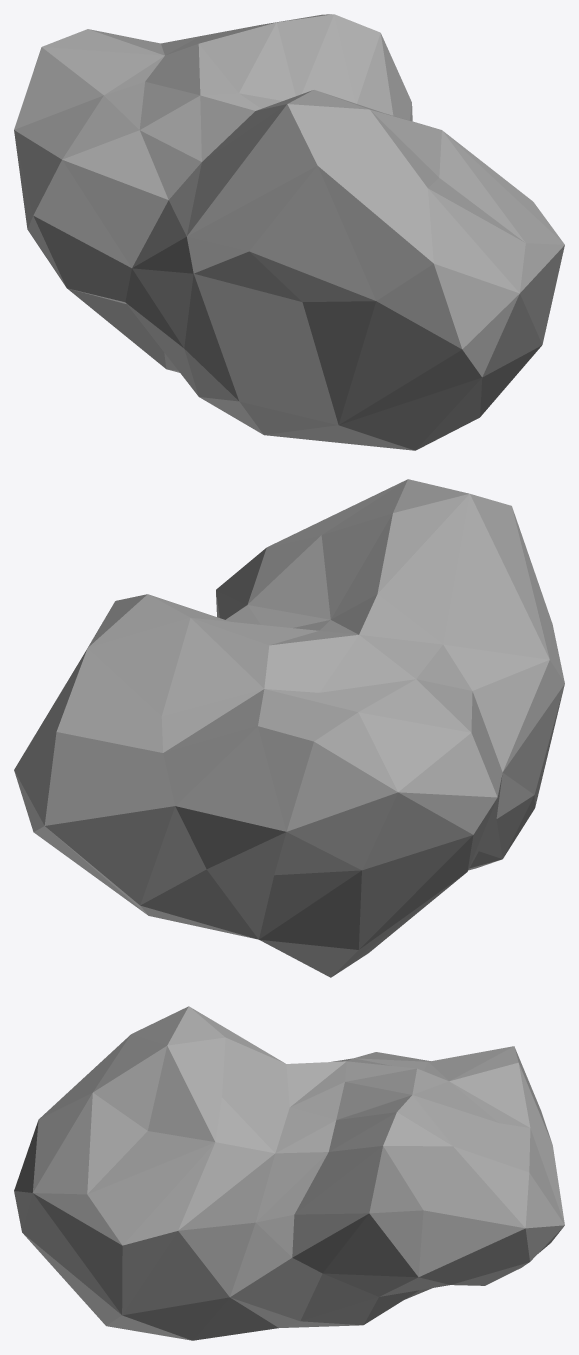
The model's file is rock6.fbx.
3 renders of one model, top to bottom at view 1: azimuth 30°, elevation 25°; view 2: azimuth 150°, elevation 25°; view 3: azimuth 270°, elevation 25°, orthographic. The views are drawn at different scales.
Visible parts, largest first — view 1: rock6; view 2: rock6; view 3: rock6.
Part boxes in pixels (x1,y1,x2,y2): rock6: [14, 14, 564, 450]; rock6: [14, 479, 564, 977]; rock6: [14, 1006, 564, 1340].
Size of the model in its own units: 95.13 by 83.59 by 141.
